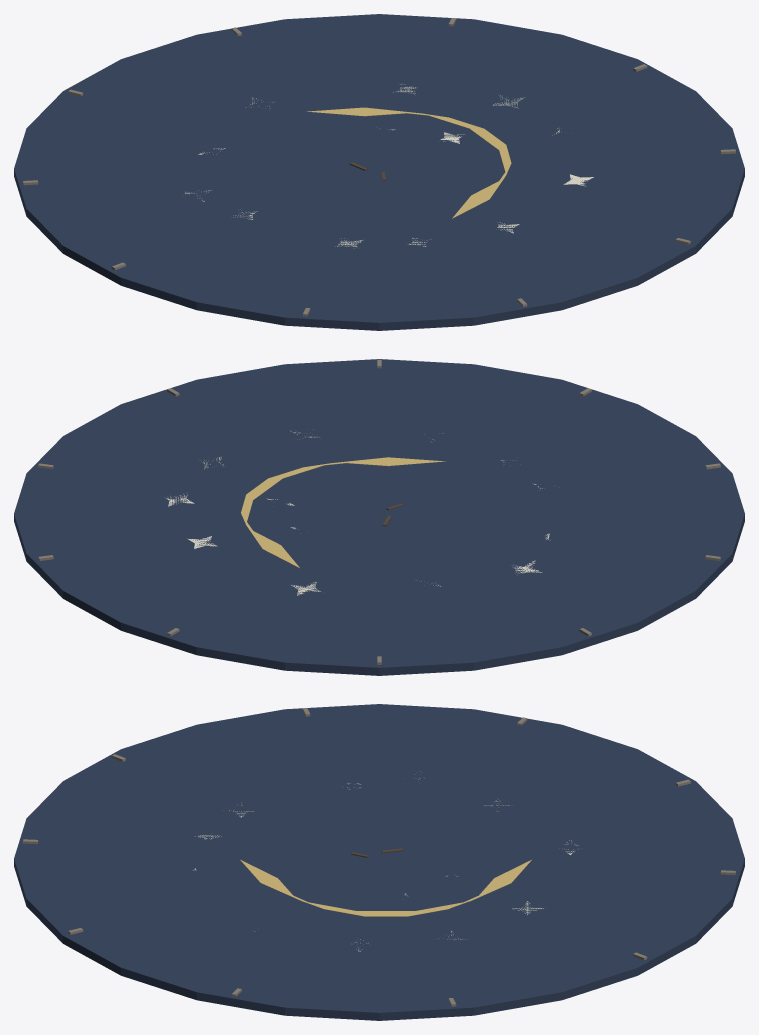
File: alfombra.glb
The picture shows the model from 3 angles, top to bottom: view 1: azimuth 30°, elevation 25°; view 2: azimuth 150°, elevation 25°; view 3: azimuth 270°, elevation 25°; orthographic projection.
Parts seen in each view (by area): view 1: Rug_Base, Rug_Decor; view 2: Rug_Base, Rug_Decor; view 3: Rug_Base, Rug_Decor.
Part boxes in pixels (x1,y1,x2,y2): Rug_Base: (14, 14, 744, 330); Rug_Decor: (185, 84, 593, 246); Rug_Base: (14, 359, 744, 675); Rug_Decor: (166, 429, 550, 595); Rug_Base: (14, 704, 744, 1020); Rug_Decor: (193, 778, 578, 951).
Size of the model in its own units: 2.22 by 0.035 by 2.22.
